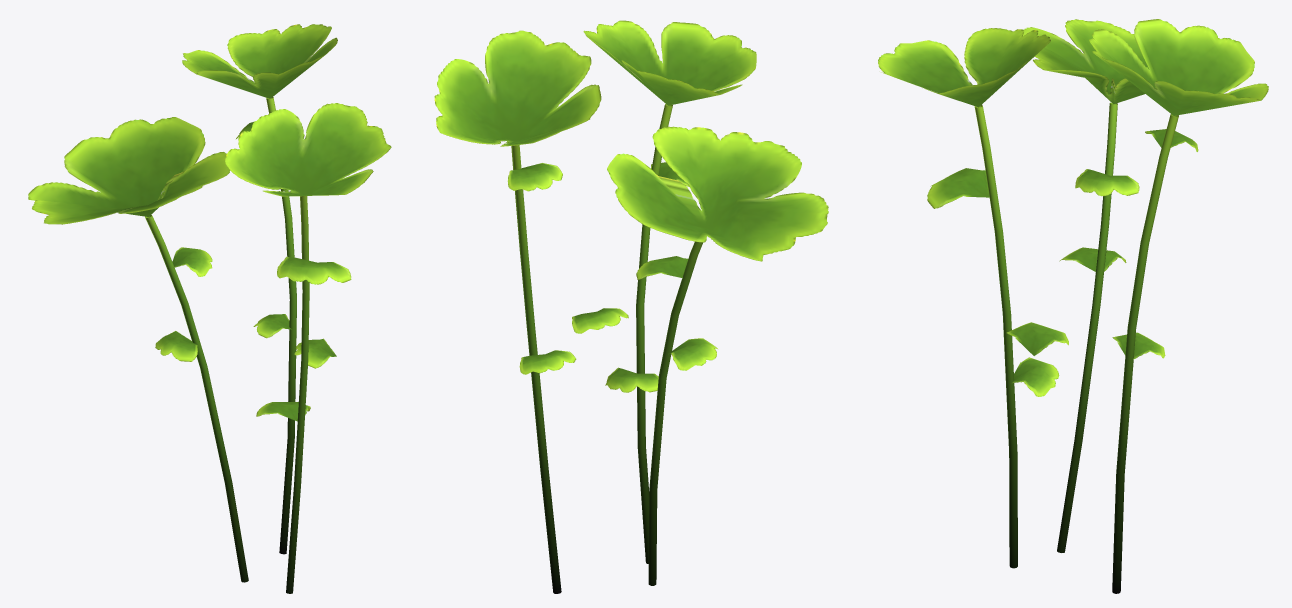
The picture shows the model from 3 angles, left to right: view 1: azimuth 30°, elevation 25°; view 2: azimuth 150°, elevation 25°; view 3: azimuth 270°, elevation 25°; orthographic projection. The views are drawn at different scales.
Visible parts, largest first — view 1: Clover_1; view 2: Clover_1; view 3: Clover_1.
Boxes of the visible parts, box(x1,y1,x2,y2) form: Clover_1: box(28, 24, 391, 593); Clover_1: box(434, 20, 828, 593); Clover_1: box(878, 19, 1268, 593).
Size of the model in its own units: 0.7963 by 1.14 by 0.7639.
Materials: 1 (1 with a texture image).
